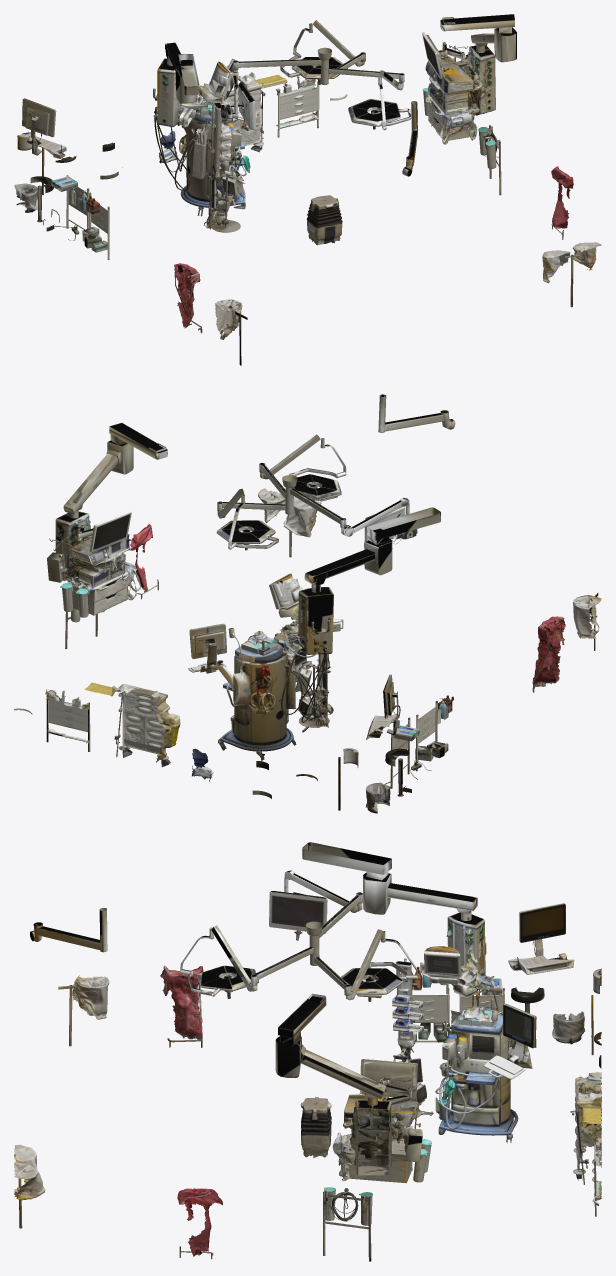
The model's file is operating_furniture.glb.
3 renders of one model, top to bottom at view 1: azimuth 30°, elevation 25°; view 2: azimuth 150°, elevation 25°; view 3: azimuth 270°, elevation 25°, orthographic. The views are drawn at different scales.
Visible parts, largest first — view 1: operating_Mitte_OP_Tex4, operating_Mitte_OP_Tex1, operating_Mitte_OP_Tex3, operating_Mitte_OP_Tex2; view 2: operating_Mitte_OP_Tex4, operating_Mitte_OP_Tex1, operating_Mitte_OP_Tex3, operating_Mitte_OP_Tex2; view 3: operating_Mitte_OP_Tex4, operating_Mitte_OP_Tex1, operating_Mitte_OP_Tex3, operating_Mitte_OP_Tex2.
Part boxes in pixels (bbox=[...]): operating_Mitte_OP_Tex4: bbox=[16, 17, 596, 333]; operating_Mitte_OP_Tex1: bbox=[16, 28, 601, 365]; operating_Mitte_OP_Tex3: bbox=[25, 20, 594, 339]; operating_Mitte_OP_Tex2: bbox=[14, 14, 514, 365]; operating_Mitte_OP_Tex4: bbox=[14, 395, 601, 813]; operating_Mitte_OP_Tex1: bbox=[14, 394, 598, 808]; operating_Mitte_OP_Tex3: bbox=[61, 434, 599, 810]; operating_Mitte_OP_Tex2: bbox=[52, 423, 595, 810]; operating_Mitte_OP_Tex4: bbox=[16, 861, 601, 1259]; operating_Mitte_OP_Tex1: bbox=[14, 875, 601, 1261]; operating_Mitte_OP_Tex3: bbox=[14, 842, 601, 1256]; operating_Mitte_OP_Tex2: bbox=[70, 873, 601, 1255].
Bounding box in the file's own units: 5.23 × 2.69 × 5.77.
Materials: 4 (4 with a texture image).
